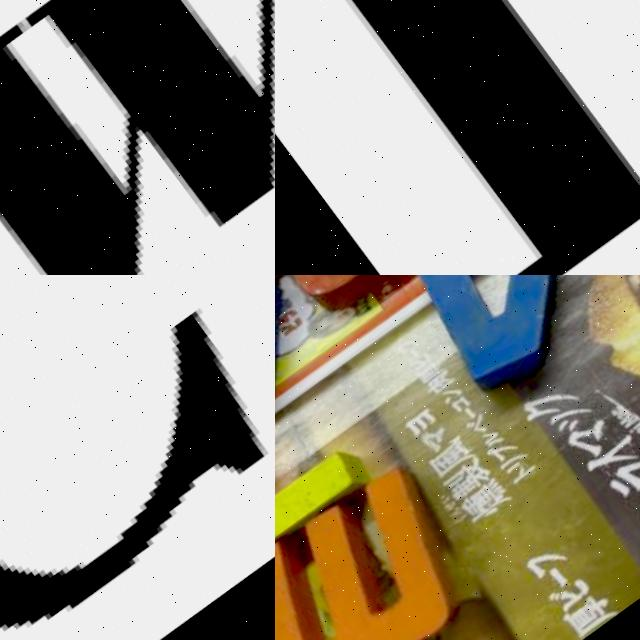C: (0, 305, 265, 631)
J: (275, 275, 331, 482)
L: (275, 350, 380, 603)
U: (275, 275, 462, 328)
V: (382, 275, 640, 407)
W: (0, 0, 275, 275), (275, 444, 491, 640)
